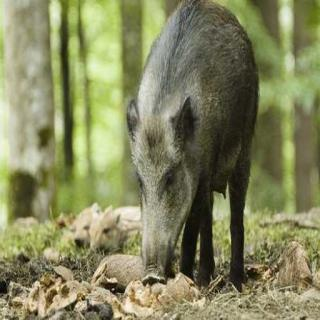Pig: (132, 0, 265, 300)
